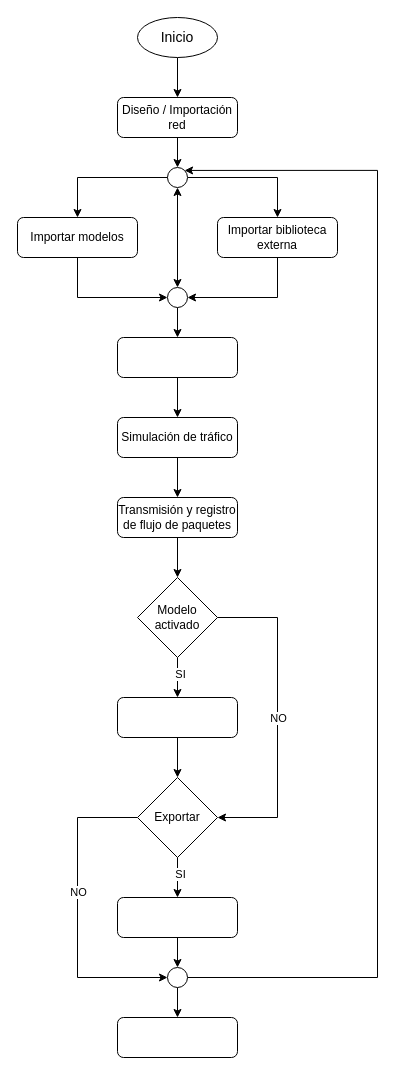
The diagram is 403 pixels wide and 1075 high, and some of its shapes have lost their labels. The shapes that lost their labels are listed below. From the top down, each one's box as (x1, y1, x2, y2) in pixels, then its label:
(116, 336, 238, 378): Configuración de la red
(116, 696, 238, 738): Mostrar predicción
(116, 896, 238, 938): Descargar .yaml
(116, 1016, 238, 1058): Fin
